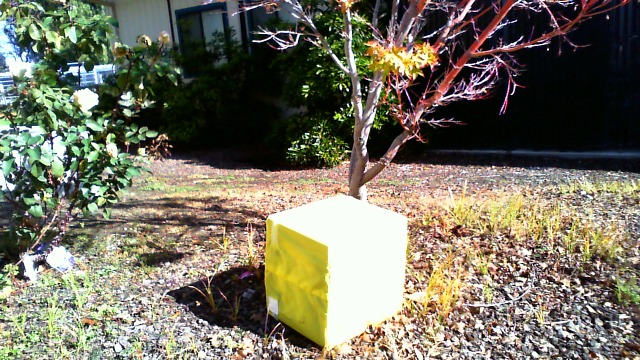cube: (261, 194, 411, 349)
